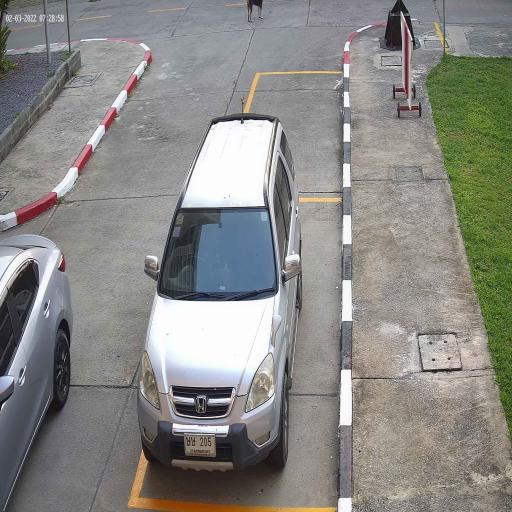car: (136, 113, 302, 476), (0, 233, 73, 512)
